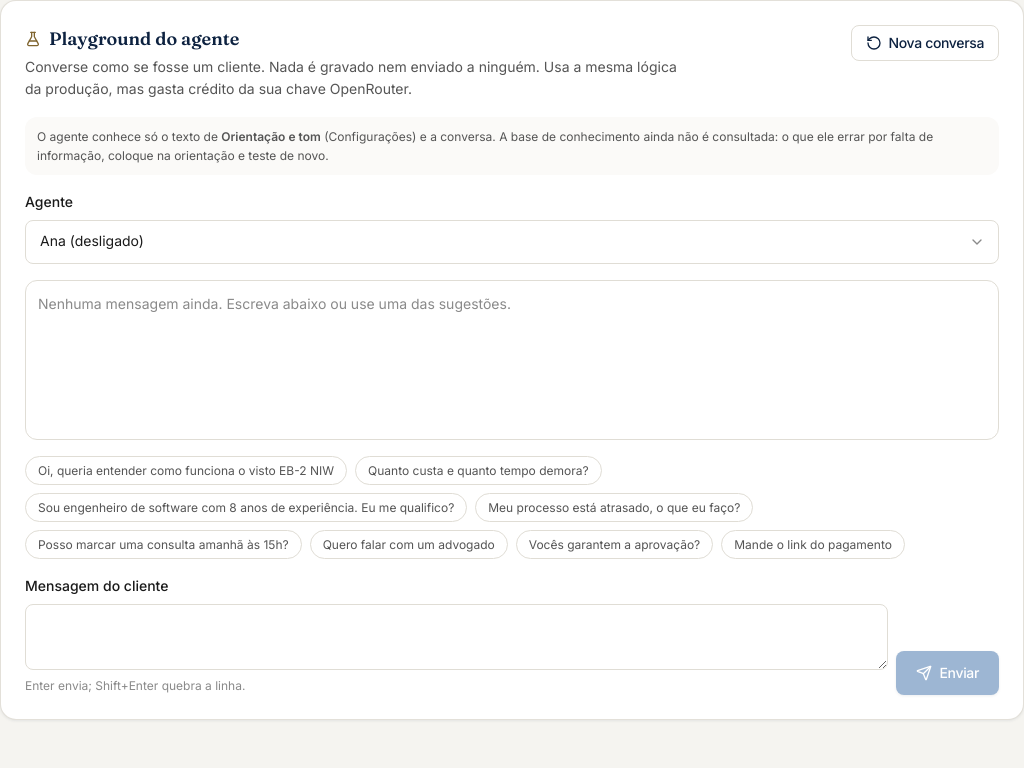
Test: PlaygroundAgente › envia a mensagem com o agente escolhido e mostra resposta, modelo, tempo e custo
Type "  Oi, quero saber do EB-2 NIW  " into the text box labelled "Mensagem do cliente" at (456, 637), box 25,604 -> 888,670
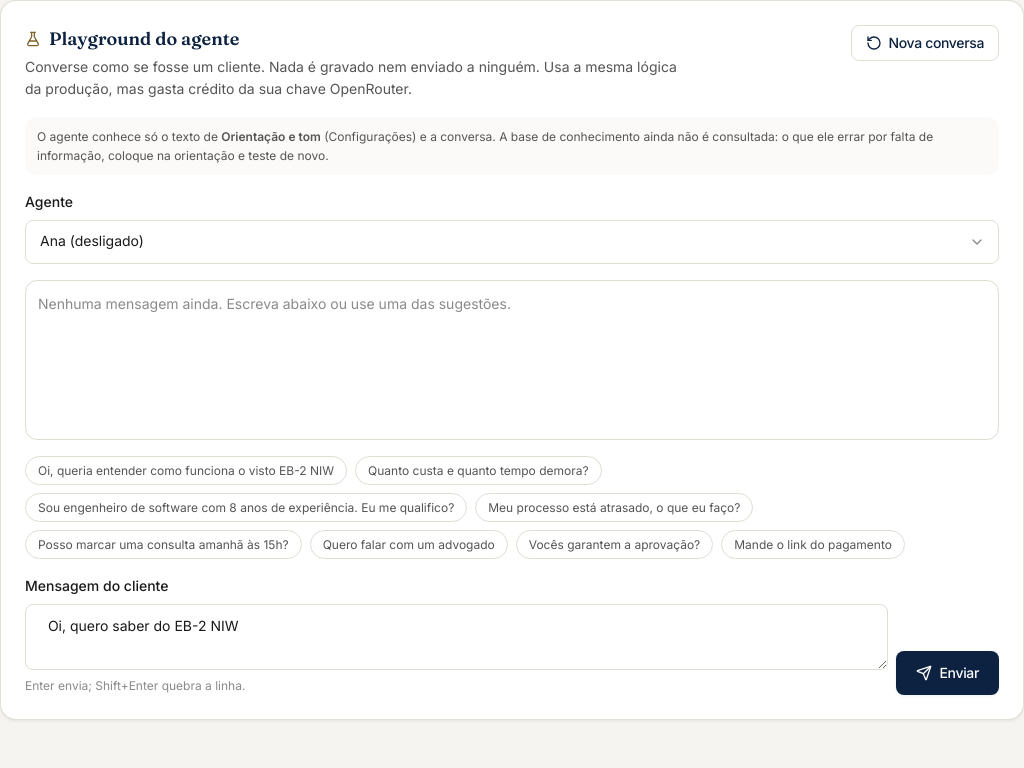
Click the button "Enviar" at (947, 674), box 896,652 -> 999,696
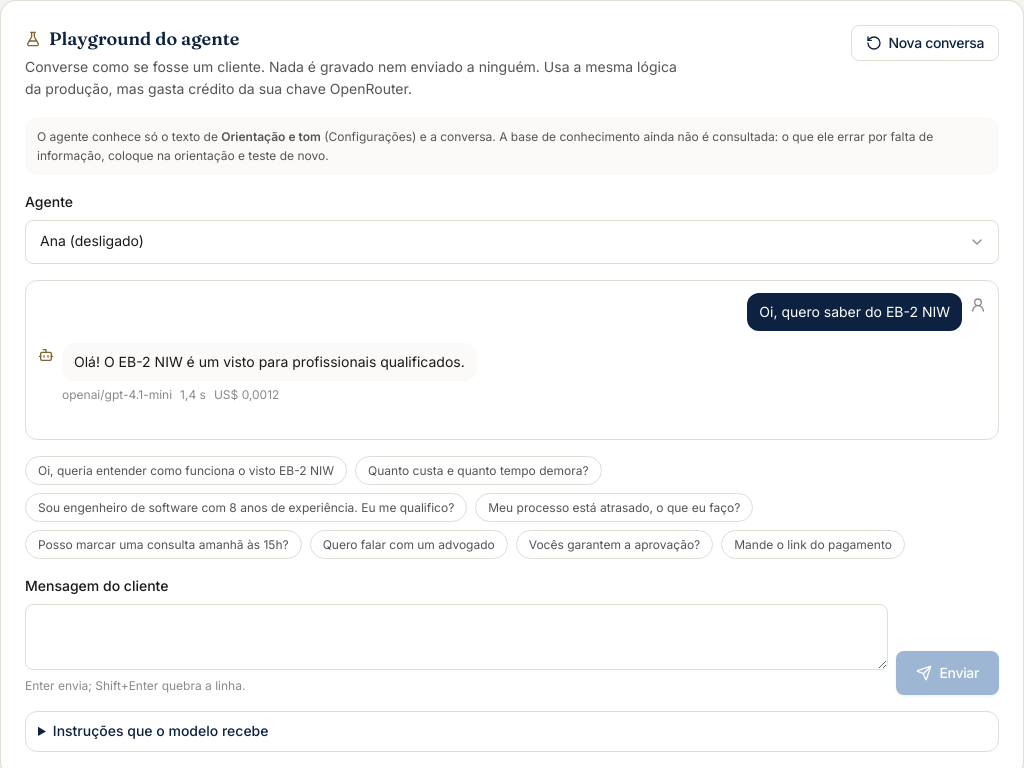
Now the text "Olá! O EB-2 NIW é um visto para profissionais qualificados." is shown, box 62,343 -> 477,381
Now the text "openai/gpt-4.1-mini" is shown, box 62,385 -> 172,404
Now the text "1,4 s" is shown, box 180,385 -> 206,404
